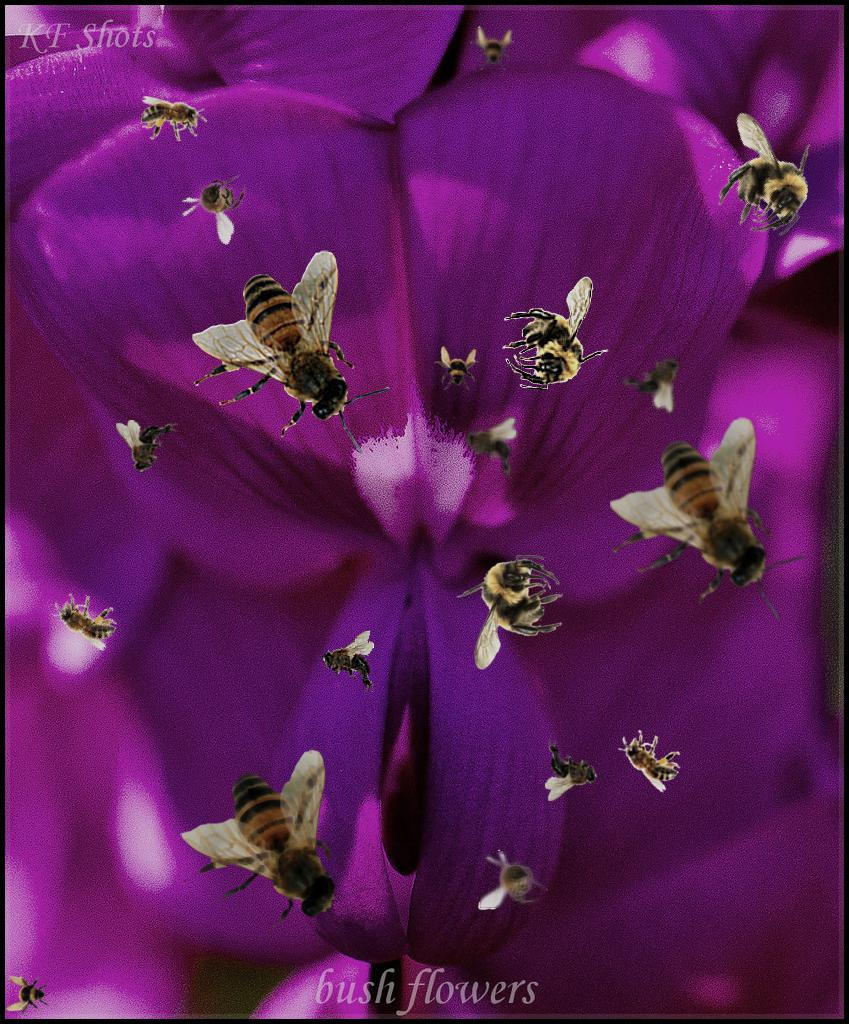Bee: (610, 417, 809, 621), (180, 748, 379, 952), (192, 250, 391, 454), (683, 95, 842, 252), (501, 273, 612, 392), (456, 555, 563, 670), (172, 156, 259, 246), (617, 339, 698, 417), (609, 720, 689, 795), (44, 584, 124, 653), (478, 849, 548, 910), (461, 413, 520, 479), (319, 630, 378, 696), (116, 420, 178, 473), (545, 739, 598, 801), (141, 96, 207, 141), (6, 974, 50, 1018), (470, 26, 514, 70), (434, 346, 478, 390)
